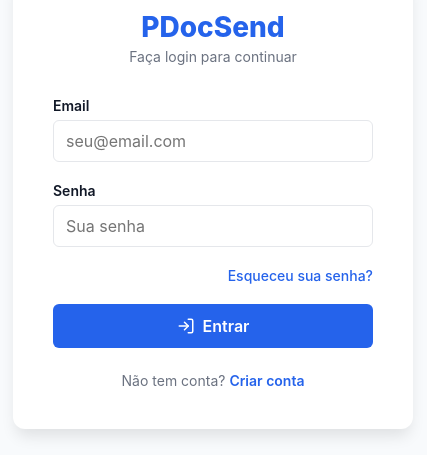
Test: Login › deve mostrar tela de recuperação ao clicar em esqueceu a senha
Click the button "Esqueceu sua senha?".
click(300, 275)  # box [53,266,373,284]
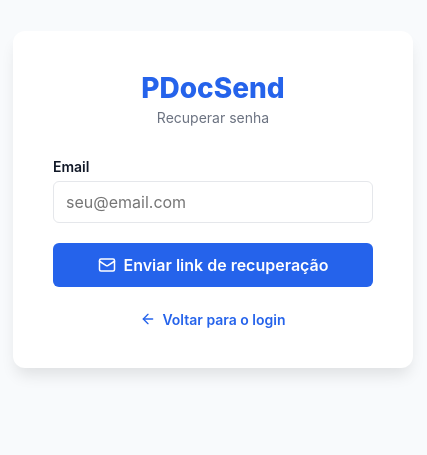
Check: the text "Recuperar senha" is shown, box [157,108,269,126]
Check: the button "Enviar link de recuperação" is shown, box [53,242,373,286]
